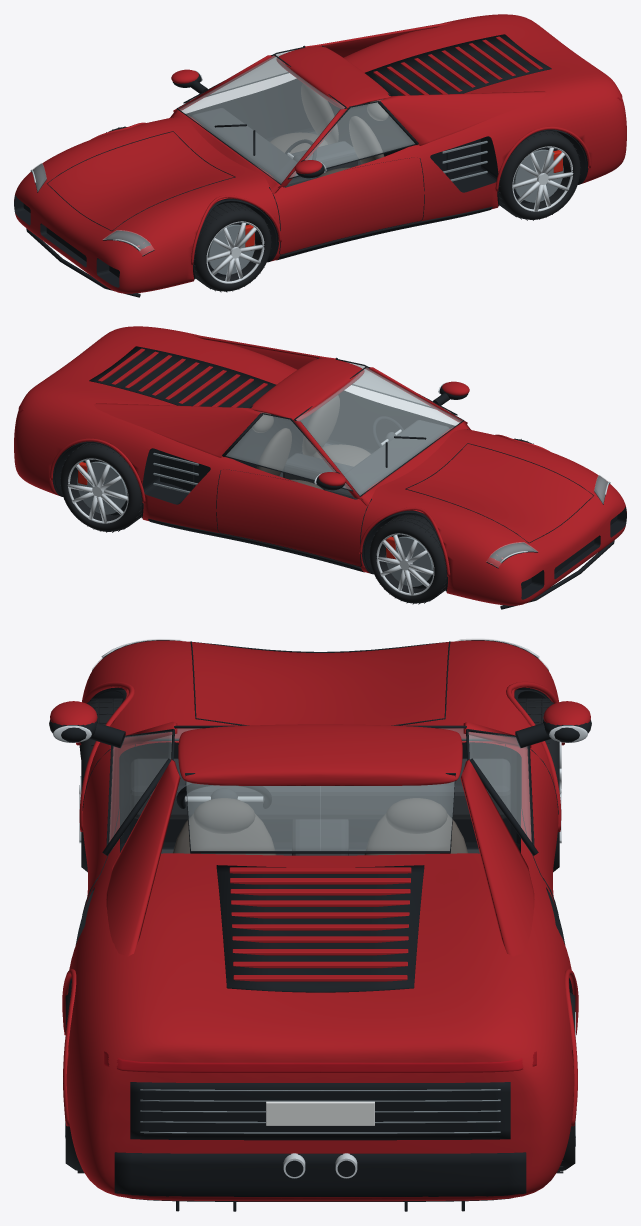
The model's file is generic-mid-engine-supercar.glb.
3 renders of one model, top to bottom at view 1: azimuth 30°, elevation 25°; view 2: azimuth 150°, elevation 25°; view 3: azimuth 270°, elevation 25°, orthographic. The views are drawn at different scales.
Parts seen in each view (by area): view 1: Original mid-engine supercar sculpted body shell, Raked transparent windscreen, Separate closed door panel, Engine cover vent recess, Flying buttress sail, Canopy side door glass, Low crowned canopy roof, Separate closed door panel.001, Low-profile tyre carcass and sidewalls.002, Low-profile tyre carcass and sidewalls, Wraparound instrument panel, Reclined bucket seat back.001 (+22 smaller); view 2: Original mid-engine supercar sculpted body shell, Raked transparent windscreen, Separate closed door panel.001, Engine cover vent recess, Flying buttress sail.001, Canopy side door glass.001, Low crowned canopy roof, Low-profile tyre carcass and sidewalls.003, Low-profile tyre carcass and sidewalls.001, Separate closed door panel, Wraparound instrument panel, Reclined bucket seat back (+21 smaller); view 3: Original mid-engine supercar sculpted body shell, Rear engine-bay grille, Rear diffuser, Rear bulkhead transparent glass, Low crowned canopy roof, Engine cover vent recess, Wraparound instrument panel, Flying buttress sail, Flying buttress sail.001, Separate closed door panel, Separate closed door panel.001, Full-width tail lamp bar (+29 smaller).
Boxes of the visible parts, left/top/right/bottom form: Original mid-engine supercar sculpted body shell: left=14, top=14, right=626, bottom=293; Raked transparent windscreen: left=179, top=55, right=344, bottom=183; Separate closed door panel: left=270, top=157, right=424, bottom=254; Engine cover vent recess: left=365, top=34, right=551, bottom=96; Flying buttress sail: left=379, top=91, right=547, bottom=145; Canopy side door glass: left=289, top=102, right=414, bottom=177; Low crowned canopy roof: left=276, top=46, right=390, bottom=108; Separate closed door panel.001: left=186, top=82, right=314, bottom=141; Low-profile tyre carcass and sidewalls.002: left=498, top=131, right=580, bottom=219; Low-profile tyre carcass and sidewalls: left=194, top=202, right=271, bottom=291; Wraparound instrument panel: left=191, top=108, right=316, bottom=187; Reclined bucket seat back.001: left=301, top=83, right=338, bottom=144; Original mid-engine supercar sculpted body shell: left=14, top=326, right=626, bottom=605; Raked transparent windscreen: left=296, top=367, right=461, bottom=495; Separate closed door panel.001: left=216, top=469, right=371, bottom=566; Engine cover vent recess: left=89, top=346, right=276, bottom=408; Flying buttress sail.001: left=93, top=403, right=261, bottom=457; Canopy side door glass.001: left=226, top=414, right=351, bottom=489; Low crowned canopy roof: left=250, top=358, right=364, bottom=420; Low-profile tyre carcass and sidewalls.003: left=60, top=443, right=142, bottom=531; Low-profile tyre carcass and sidewalls.001: left=369, top=514, right=446, bottom=603; Separate closed door panel: left=326, top=394, right=454, bottom=453; Wraparound instrument panel: left=324, top=420, right=449, bottom=499; Reclined bucket seat back: left=302, top=395, right=339, bottom=456; Original mid-engine supercar sculpted body shell: left=66, top=640, right=574, bottom=1201; Rear engine-bay grille: left=130, top=1082, right=510, bottom=1140; Rear diffuser: left=114, top=1152, right=526, bottom=1201; Rear bulkhead transparent glass: left=186, top=781, right=454, bottom=850; Low crowned canopy roof: left=178, top=724, right=462, bottom=785; Engine cover vent recess: left=216, top=865, right=424, bottom=992; Wraparound instrument panel: left=130, top=758, right=510, bottom=819; Flying buttress sail: left=106, top=759, right=180, bottom=956; Flying buttress sail.001: left=460, top=759, right=534, bottom=956; Separate closed door panel: left=82, top=744, right=155, bottom=896; Separate closed door panel.001: left=485, top=744, right=558, bottom=896; Full-width tail lamp bar: left=104, top=1051, right=536, bottom=1072.
Size of the model in its own units: 4.63 by 1.19 by 2.09.
Materials: 12 (12 with a texture image).
